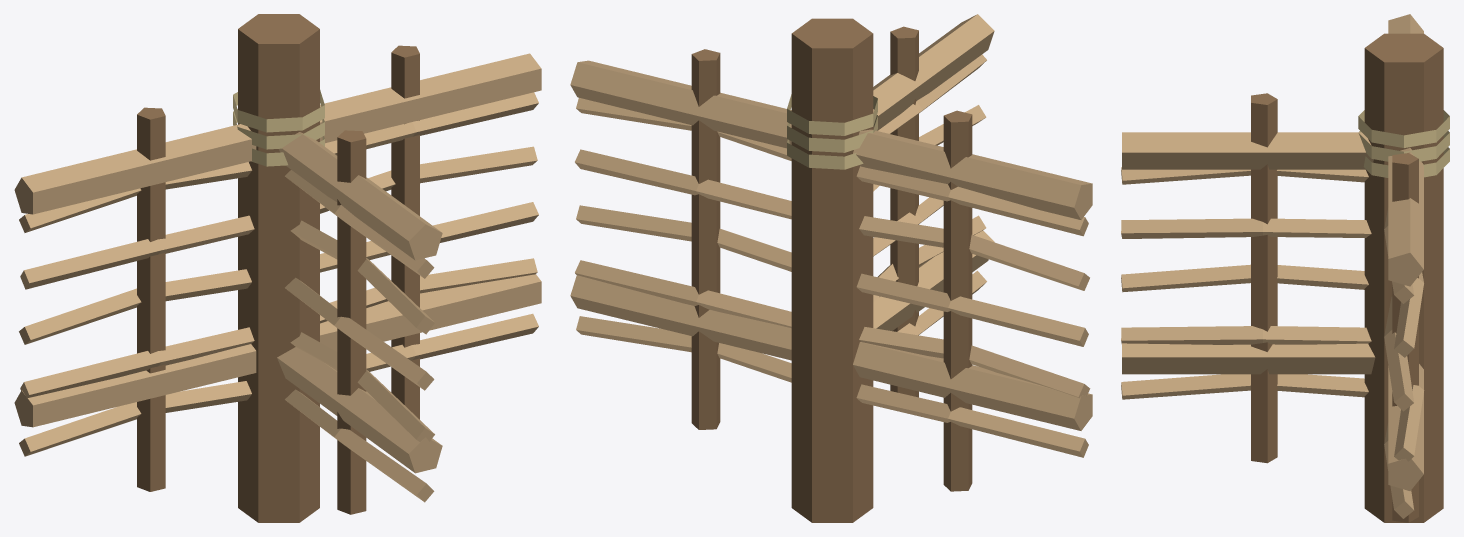
The model's file is pen_fence_0e.glb.
The picture shows the model from 3 angles, left to right: view 1: azimuth 30°, elevation 25°; view 2: azimuth 150°, elevation 25°; view 3: azimuth 270°, elevation 25°; orthographic projection. The views are drawn at different scales.
Parts seen in each view (by area): view 1: pen_fence_0e; view 2: pen_fence_0e; view 3: pen_fence_0e.
Boxes of the visible parts, box(x1,y1,x2,y2) form: pen_fence_0e: box(14, 14, 541, 522); pen_fence_0e: box(570, 14, 1092, 522); pen_fence_0e: box(1121, 14, 1449, 522).
Bounding box in the file's own units: 1 × 0.9 × 0.5823.
